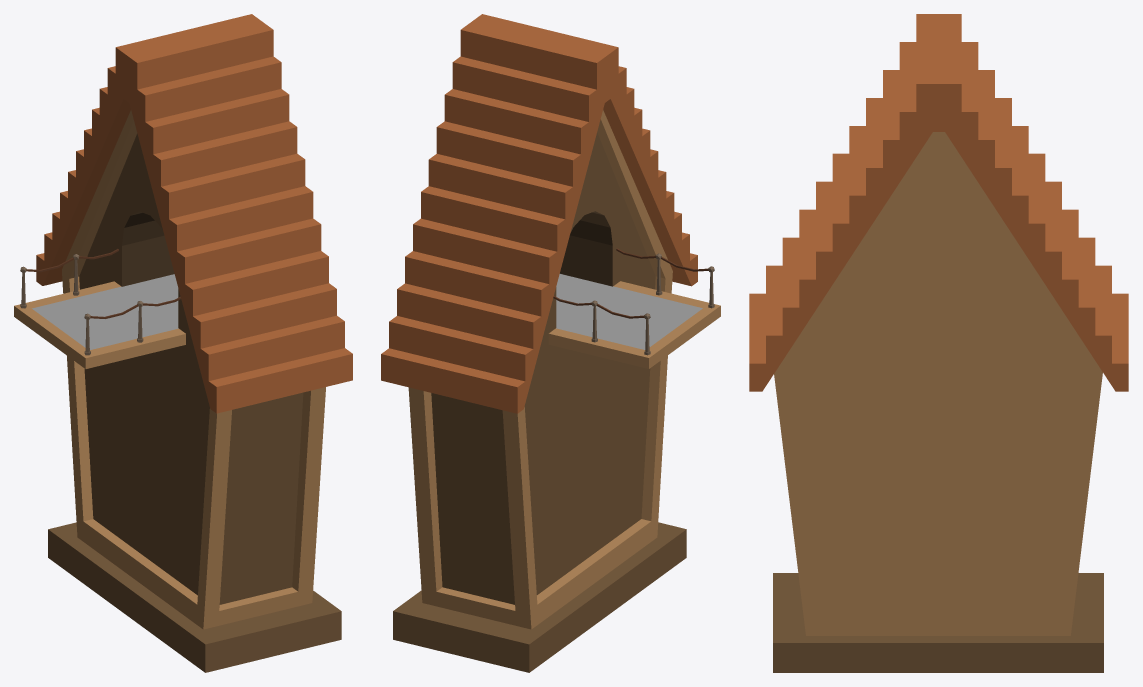
Rendered from cuckohouseisolated.fbx.
The picture shows the model from 3 angles, left to right: view 1: azimuth 30°, elevation 25°; view 2: azimuth 150°, elevation 25°; view 3: azimuth 270°, elevation 25°; orthographic projection. The views are drawn at different scales.
Parts seen in each view (by area): view 1: Roof; view 2: Roof; view 3: Roof.
Boxes of the visible parts, box(x1,y1,x2,y2) form: Roof: box(14, 14, 352, 672); Roof: box(381, 14, 720, 672); Roof: box(749, 14, 1128, 672).
Size of the model in its own units: 15.64 by 39.9 by 22.93.
